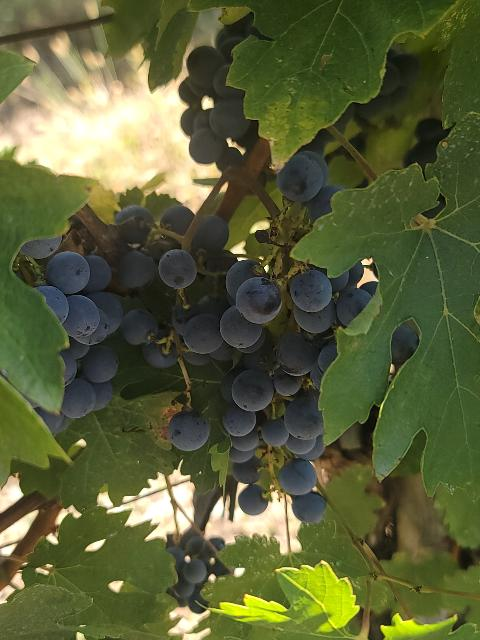grapes: (16, 205, 262, 451), (220, 151, 371, 522)
